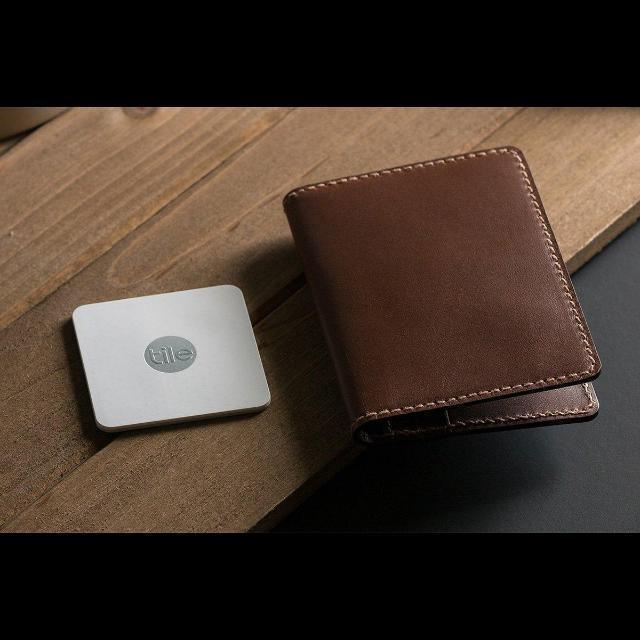wallet: (286, 144, 602, 440)
